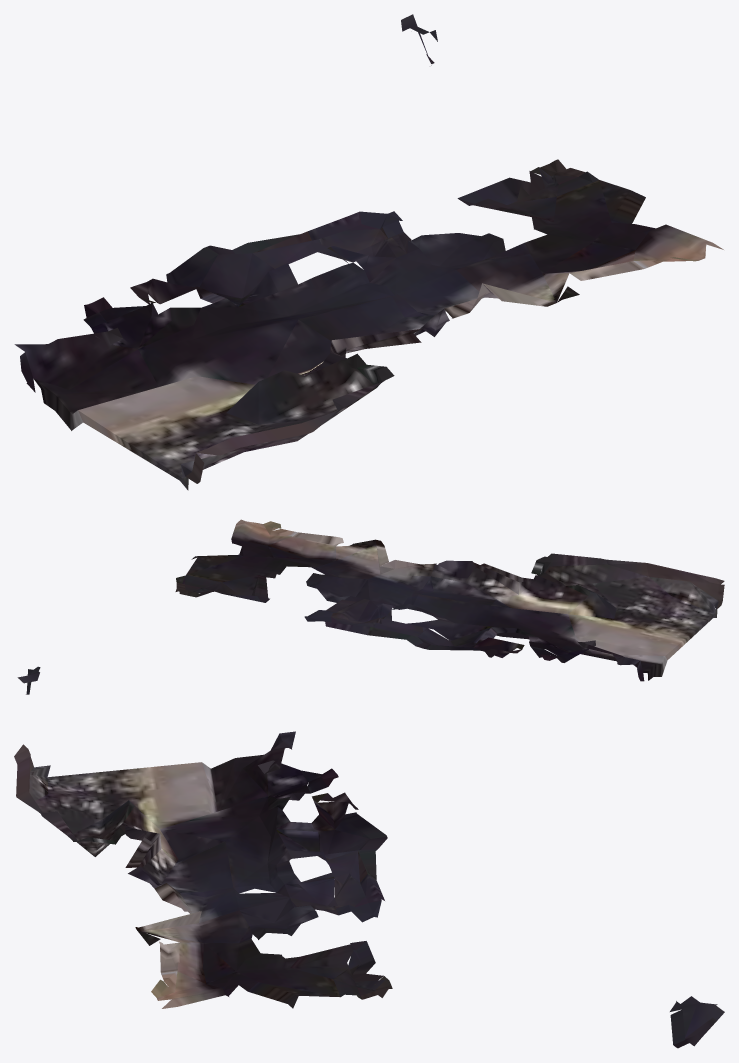
The picture shows the model from 3 angles, top to bottom: view 1: azimuth 30°, elevation 25°; view 2: azimuth 150°, elevation 25°; view 3: azimuth 270°, elevation 25°; orthographic projection. The views are drawn at different scales.
Parts seen in each view (by area): view 1: Mesh_0; view 2: Mesh_0; view 3: Mesh_0.
Part boxes in pixels (box(x1,y1,x2,y2)): Mesh_0: box(14, 14, 723, 490); Mesh_0: box(17, 519, 724, 694); Mesh_0: box(14, 731, 724, 1048).
Bounding box in the file's own units: 27.56 × 2.38 × 29.92.
1 material, 1 textured.
